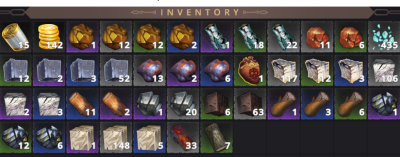ash log: (201, 121, 232, 153)
aurelium ore: (99, 21, 133, 53), (134, 21, 166, 52), (167, 21, 199, 52), (66, 22, 98, 52)
birch log: (200, 21, 233, 53), (233, 20, 266, 52), (267, 20, 300, 52)
copper ore: (301, 20, 333, 52), (334, 20, 366, 52)
ethereal dust: (367, 21, 399, 53)
gold: (33, 21, 65, 51)
granite stone: (67, 54, 99, 86), (33, 54, 65, 85), (100, 54, 131, 86), (1, 54, 31, 86)
iron ore: (200, 53, 233, 87), (167, 53, 199, 86), (133, 54, 165, 86)
limestone stone: (267, 53, 301, 86), (334, 55, 367, 87), (302, 54, 333, 86)
marble stone: (1, 87, 33, 120), (34, 87, 65, 120), (368, 55, 400, 86)
oak log: (99, 87, 132, 120), (66, 87, 98, 120)
silver ore: (132, 87, 166, 120), (167, 88, 199, 120)
slate stone: (200, 88, 233, 120), (234, 88, 266, 119)
spruce log: (334, 87, 367, 121), (267, 87, 300, 120), (301, 87, 333, 119)
tin ore: (32, 121, 65, 153), (368, 87, 399, 120), (1, 121, 30, 153)
travertine stone: (66, 120, 98, 154), (99, 120, 131, 153), (133, 121, 166, 153)
yew log: (167, 121, 199, 153)
